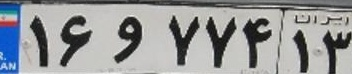character: (54, 10, 98, 70), (101, 10, 147, 67), (160, 9, 203, 69), (240, 12, 277, 72), (205, 9, 239, 71), (25, 10, 54, 70), (320, 27, 352, 74), (289, 25, 314, 74)
